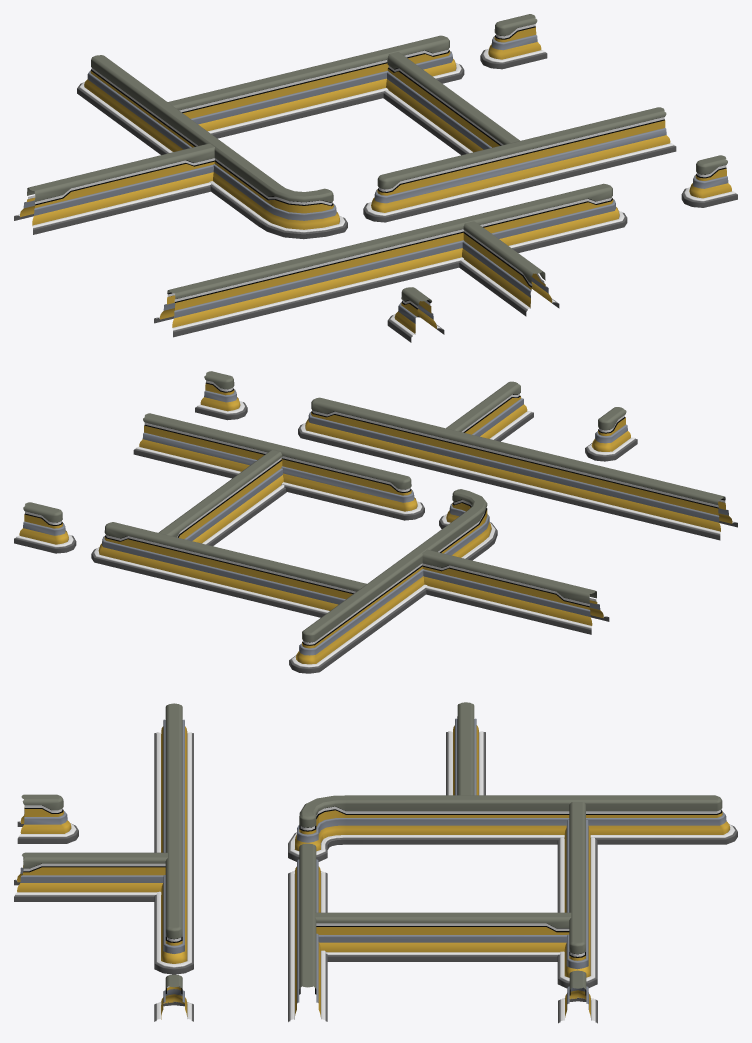
File: Small walls.fbx
3 views of the same model, one above another, from view 1: azimuth 30°, elevation 25°; view 2: azimuth 150°, elevation 25°; view 3: azimuth 270°, elevation 25° (orthographic). The views are drawn at different scales.
Visible parts, largest first — view 1: Small_wallv1_53, Small_wallv1_57, Small_wallv1_110_e_219_, Small_wallv1_55, Small_wallv1_48, Small_wallv1_20, Small_wallv1_54, Small_wallv1_56, Small_wallv1_50, Small_wallv1_109; view 2: Small_wallv1_53, Small_wallv1_57, Small_wallv1_55, Small_wallv1_110_e_219_, Small_wallv1_48, Small_wallv1_20, Small_wallv1_54, Small_wallv1_56, Small_wallv1_109, Small_wallv1_50; view 3: Small_wallv1_110_e_219_, Small_wallv1_20, Small_wallv1_53, Small_wallv1_54, Small_wallv1_55, Small_wallv1_57, Small_wallv1_48, Small_wallv1_109, Small_wallv1_56, Small_wallv1_50.
Part boxes in pixels (<box>): Small_wallv1_53: <box>154,183,627,337</box>; Small_wallv1_57: <box>363,107,676,222</box>; Small_wallv1_110_e_219_: <box>77,55,347,239</box>; Small_wallv1_55: <box>168,35,464,138</box>; Small_wallv1_48: <box>14,143,214,234</box>; Small_wallv1_20: <box>383,52,519,155</box>; Small_wallv1_54: <box>459,221,559,316</box>; Small_wallv1_56: <box>480,14,547,69</box>; Small_wallv1_50: <box>681,155,737,207</box>; Small_wallv1_109: <box>387,287,444,342</box>; Small_wallv1_53: <box>298,397,737,540</box>; Small_wallv1_57: <box>133,413,424,520</box>; Small_wallv1_55: <box>91,522,366,617</box>; Small_wallv1_110_e_219_: <box>289,489,497,673</box>; Small_wallv1_48: <box>422,549,609,634</box>; Small_wallv1_20: <box>158,450,286,545</box>; Small_wallv1_54: <box>446,381,533,441</box>; Small_wallv1_56: <box>14,502,76,553</box>; Small_wallv1_109: <box>585,407,637,461</box>; Small_wallv1_50: <box>195,371,247,420</box>; Small_wallv1_110_e_219_: <box>288,795,737,861</box>; Small_wallv1_20: <box>315,912,571,961</box>; Small_wallv1_53: <box>154,703,193,974</box>; Small_wallv1_54: <box>14,852,167,901</box>; Small_wallv1_55: <box>557,802,597,988</box>; Small_wallv1_57: <box>288,843,327,1021</box>; Small_wallv1_48: <box>446,702,485,795</box>; Small_wallv1_109: <box>17,794,78,843</box>; Small_wallv1_56: <box>558,970,597,1023</box>; Small_wallv1_50: <box>154,974,193,1021</box>.
Size of the model in its own units: 592 by 38.41 by 624.
